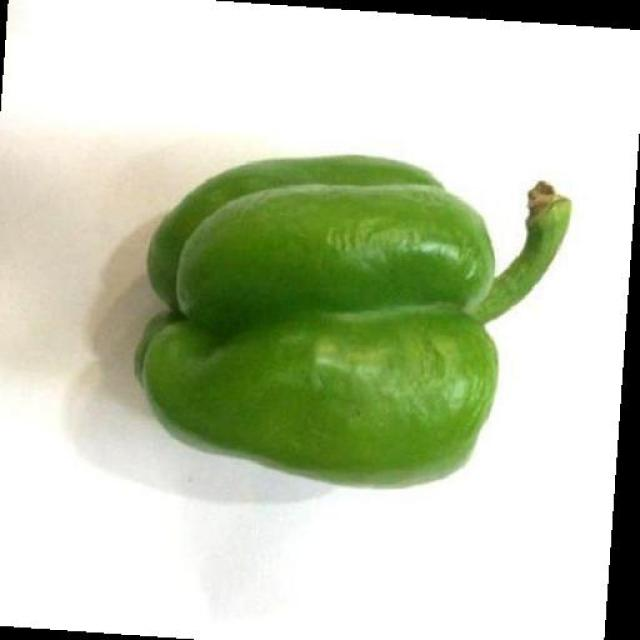Fresh_Capsicum: (129, 122, 567, 510)
